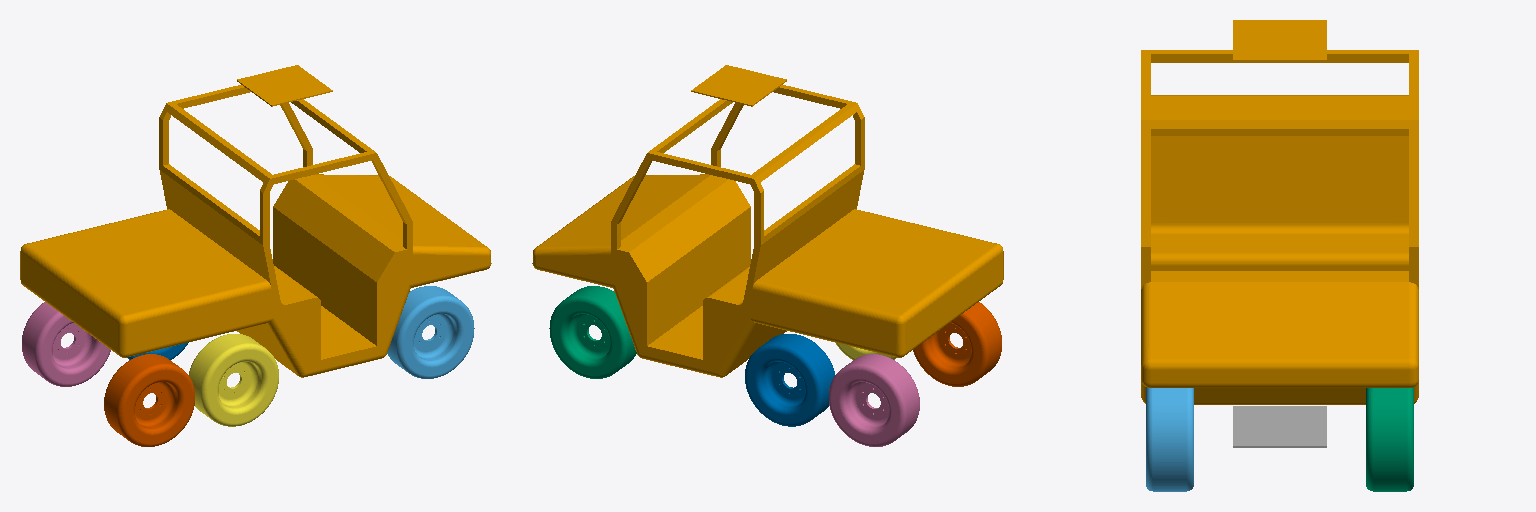
The robot description file, URDF, robot "rsl_roverzoe":
<robot name="rsl_roverzoe">
<link name="base_link">
    <visual>
      <origin xyz="0 0 0" rpy="0 0 0" />
      <geometry>
          <mesh filename="package://rsl_rover/urdf/RoughBody_corrected.stl"/>
      </geometry>

    
    </visual>
 
    <collision><!-- Test values for now -->
         <geometry>
           <box size="300 200 200" />
         </geometry>
    </collision>
  
</link>

<!-- Front Right Wheel -->
<joint name="body_to_fr_tire" type="fixed" >
	<parent link="base_link" />
	<child link="fr_tire" />
	<origin xyz="1.9431 -0.584 0" rpy="0 0 0" />
	<axis xyz="0 1 0" />
</joint>
<link name="fr_tire">
   <visual>
	<geometry>
	<mesh filename="package://rsl_rover/urdf/Tire_corrected.stl"/>
	</geometry>
     </visual>
</link>

<!-- Front Left Wheel -->
<joint name="body_to_fl_tire" type="fixed" >
	<parent link="base_link" />
	<child link="fl_tire" />
	<origin xyz="1.9431 0.584 0" rpy="0 0 0" />
	<axis xyz="0 1 0" />
</joint>
<link name="fl_tire">
   <visual>
	<geometry>
	<mesh filename="package://rsl_rover/urdf/Tire_corrected.stl"/>
	</geometry>
     </visual>
</link>

<!-- Center Right Wheel -->
<joint name="body_to_cr_tire" type="fixed" >
	<parent link="base_link" />
	<child link="cr_tire" />
	<origin xyz="0.3429 -0.584 0" rpy="0 0 0" />
	<axis xyz="0 1 0" />
</joint>
<link name="cr_tire">
   <visual>
	<geometry>
	<mesh filename="package://rsl_rover/urdf/Tire_corrected.stl"/>
	</geometry>
     </visual>
</link>

<!-- Center Left Wheel -->
<joint name="body_to_cl_tire" type="fixed" >
	<parent link="base_link" />
	<child link="cl_tire" />
	<origin xyz="0.3429 0.584 0" rpy="0 0 0" />
	<axis xyz="0 1 0" />
</joint>
<link name="cl_tire">
   <visual>
	<geometry>
	<mesh filename="package://rsl_rover/urdf/Tire_corrected.stl"/>
	</geometry>
     </visual>

<!-- Back Right Wheel -->
</link><joint name="body_to_br_tire" type="fixed" >
	<parent link="base_link" />
	<child link="br_tire" />
	<origin xyz="-0.3429 -0.584 0" rpy="0 0 0" />
	<axis xyz="0 1 0" />
</joint>
<link name="br_tire">
   <visual>
	<geometry>
	<mesh filename="package://rsl_rover/urdf/Tire_corrected.stl"/>
	</geometry>
     </visual>
</link>

<!-- Back Left Wheel -->
<joint name="body_to_bl_tire" type="fixed" >
	<parent link="base_link" />
	<child link="bl_tire" />
	<origin xyz="-0.3429 0.584 0" rpy="0 0 0" />
	<axis xyz="0 1 0" />
</joint>
<link name="bl_tire">
   <visual>
	<geometry>
	<mesh filename="package://rsl_rover/urdf/Tire_corrected.stl"/>
	</geometry>
     </visual>
</link>



<!-- Front_Laser -->
<joint name="body_to_front_laser" type="fixed" >
	<parent link="base_link" />
	<child link="front_laser" />
	<origin xyz="2.4 0 0.24" rpy="3.1416 0 0" />
	<axis xyz="0 1 0" />
</joint>
<link name="front_laser">
   <visual>
	<geometry>
	<box size=".5 .5 .01" />
	</geometry>
     </visual>
</link>


<!-- Gimbal_Base -->
<joint name="body_to_gimbal_base" type="fixed" >
	<parent link="base_link" />
	<child link="gimbal_base" />
	<!--<origin xyz=".978 0 1.892" rpy="0 0 0" />-->
	<origin xyz="1.1 0 1.892" rpy="0 0 0" />
	<axis xyz="0 1 0" />
</joint>
<link name="gimbal_base">
   <visual>
	<geometry>
	<box size=".5 .5 .01" />
	</geometry>
     </visual>
</link>

<!-- Imu Link -->
<joint name="body_to_imu_link" type="fixed" >
	<parent link="base_link" />
	<child link="imu_link" />
	<origin xyz="0 0 0.5" rpy="0 0 0" />
	<axis xyz="0 1 0" />
</joint>
<link name="imu_link">
   <visual>
	<geometry>
	<box size=".05 .05 .05" />
	</geometry>
     </visual>
</link>

<!-- Base Footprint Link (base link shifted down to under the wheels) -->
<joint name="body_to_base_footprint" type="fixed" >
	<parent link="base_link" />
	<child link="base_footprint" />
	<origin xyz="0 0 -0.3429" rpy="0 0 0" />
	<axis xyz="0 0 0" />
</joint>
	<link name="base_footprint">
</link>

<joint name="body_to_front_camera" type="fixed" >
	<parent link="base_link" />
	<child link="front_camera" />
	<origin xyz="1.0 0 1.0" rpy="3.14 0 0" />
	<axis xyz="0 0 0" />
</joint>
	<link name="front_camera">
</link>
</robot>

--- Render facts (derived) ---
The picture shows the robot from 3 angles, left to right: view 1: azimuth 30°, elevation 25°; view 2: azimuth 150°, elevation 25°; view 3: azimuth 270°, elevation 25°; orthographic projection.
Robot: rsl_roverzoe — 12 links, 11 joints (11 fixed); root link base_link; default pose: every joint at zero.
Visible links, largest first — view 1: base_link, br_tire, cr_tire, fr_tire, bl_tire, gimbal_base; view 2: base_link, bl_tire, cl_tire, fl_tire, br_tire, gimbal_base; view 3: base_link, fr_tire, fl_tire, front_laser, gimbal_base.
Boxes of the visible links, <box> form: base_link: <box>20,85,490,377</box>; br_tire: <box>104,354,194,446</box>; cr_tire: <box>189,334,278,426</box>; fr_tire: <box>387,286,474,378</box>; bl_tire: <box>22,302,110,386</box>; gimbal_base: <box>237,65,332,106</box>; base_link: <box>533,85,1003,377</box>; bl_tire: <box>829,354,919,446</box>; cl_tire: <box>745,334,834,426</box>; fl_tire: <box>549,286,636,378</box>; br_tire: <box>913,302,1001,386</box>; gimbal_base: <box>691,65,786,106</box>; base_link: <box>1141,50,1418,404</box>; fr_tire: <box>1146,387,1193,491</box>; fl_tire: <box>1366,387,1413,491</box>; front_laser: <box>1233,406,1326,447</box>; gimbal_base: <box>1233,20,1326,61</box>.
Bounding box of the posed robot: 3.31 × 1.47 × 2.21 m (x, y, z).
Meshes: 2 distinct files referenced, 7 mesh visuals loaded (2 binary STL).
